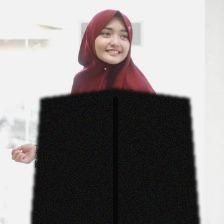Cadar_Niqab: (31, 7, 200, 224)
